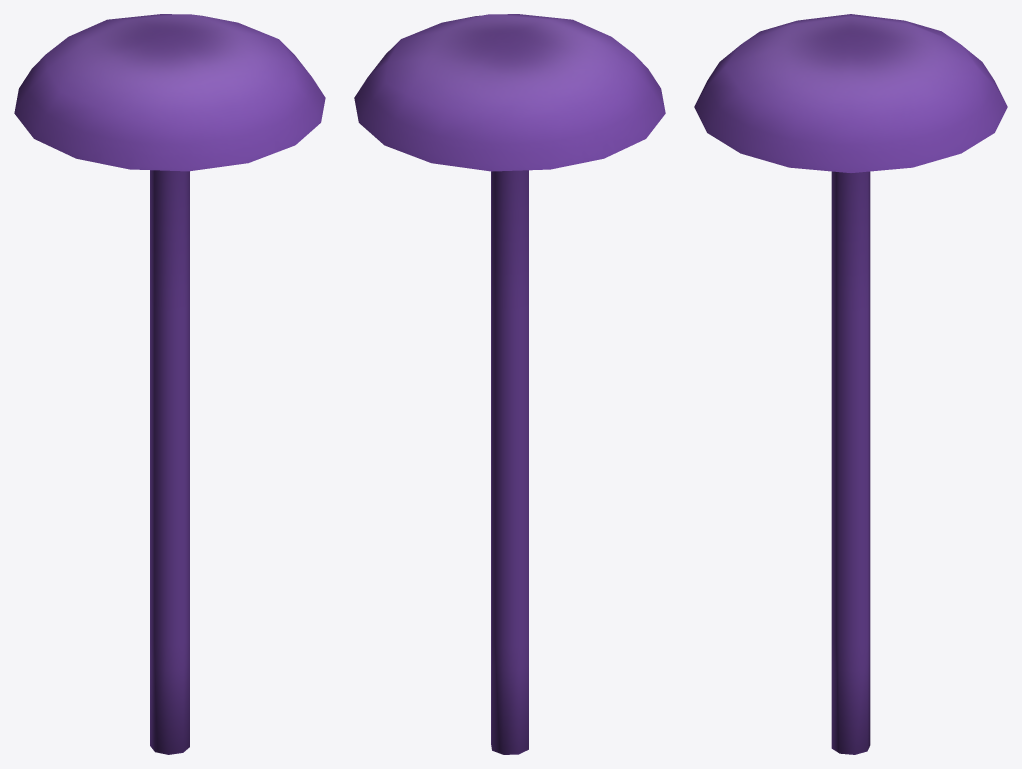
Rendered from Amethyst_Deceiver_Big.fbx.
The picture shows the model from 3 angles, left to right: view 1: azimuth 30°, elevation 25°; view 2: azimuth 150°, elevation 25°; view 3: azimuth 270°, elevation 25°; orthographic projection.
Parts seen in each view (by area): view 1: Amethyst_Deceiver_Big; view 2: Amethyst_Deceiver_Big; view 3: Amethyst_Deceiver_Big.
Part boxes in pixels (x1,y1,x2,y2): Amethyst_Deceiver_Big: [14, 14, 325, 754]; Amethyst_Deceiver_Big: [354, 14, 665, 754]; Amethyst_Deceiver_Big: [694, 14, 1007, 754].
Bounding box in the file's own units: 11.38 × 28.41 × 11.38.
